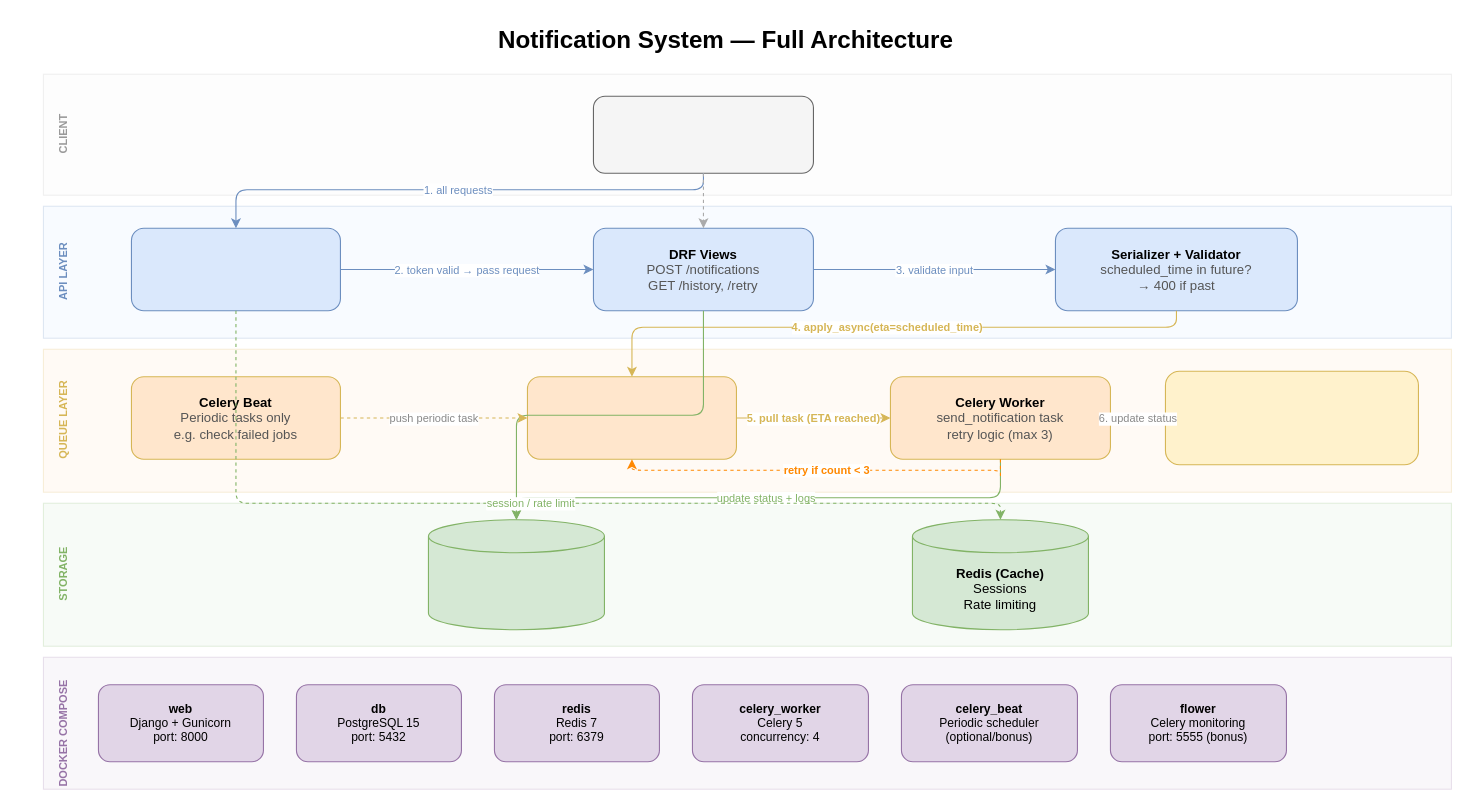
The diagram is 1471 pixels wide and 809 high, and some of its shapes have lost their labels. Each missing label, with the centre of its shape:
"Client App HTTP Requests" belongs at (x=702, y=134).
"JWT Auth DRF Authentication (middleware-style)" belongs at (x=235, y=269).
"PostgreSQL users notifications notification_logs" belongs at (x=515, y=574).
"Redis (Broker) Task queue stores ETA timestamps" belongs at (x=631, y=417).
"Status Flow PENDING → SCHEDULED → SENT FAILED → PERMANENTLY_FAILED (≥3)" belongs at (x=1291, y=417).
